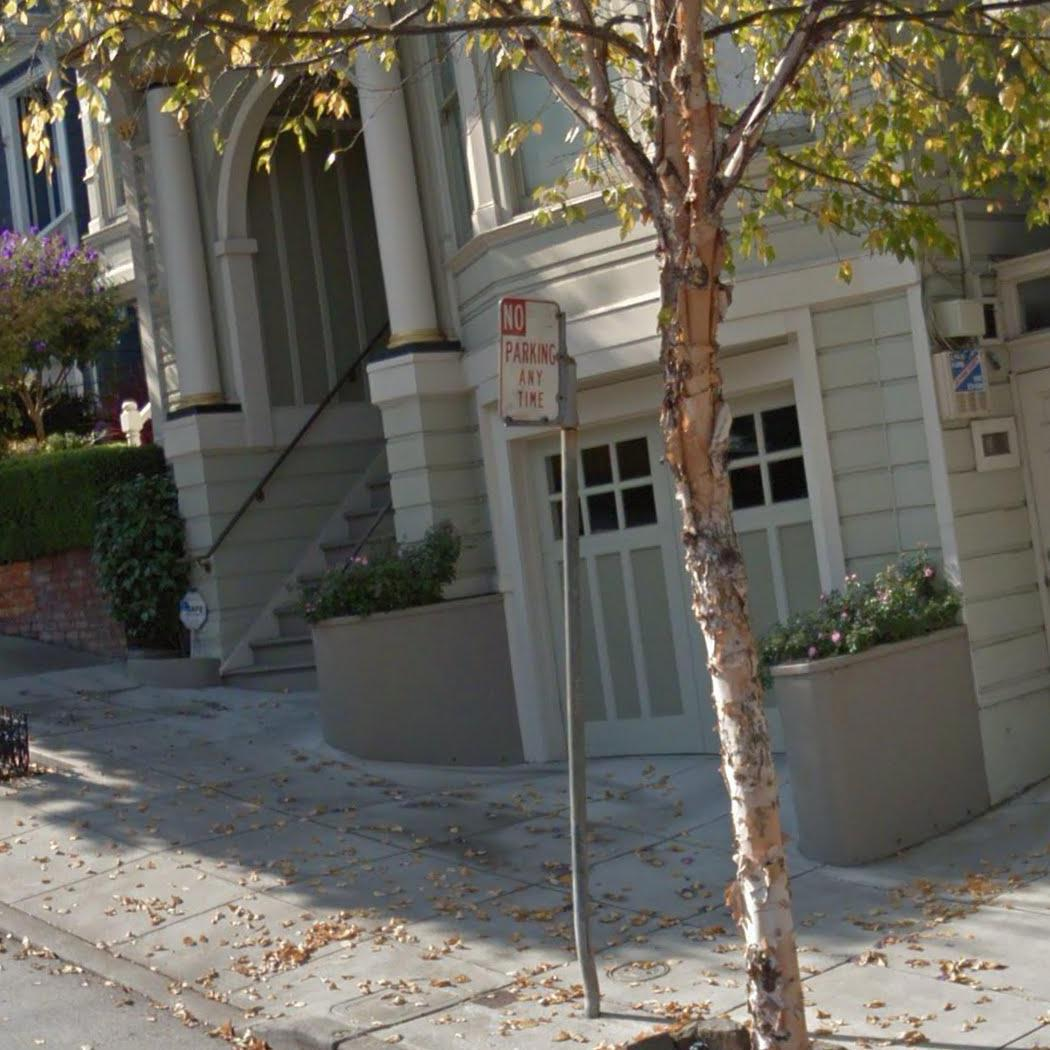No Parking Anytime: (489, 289, 566, 442)
